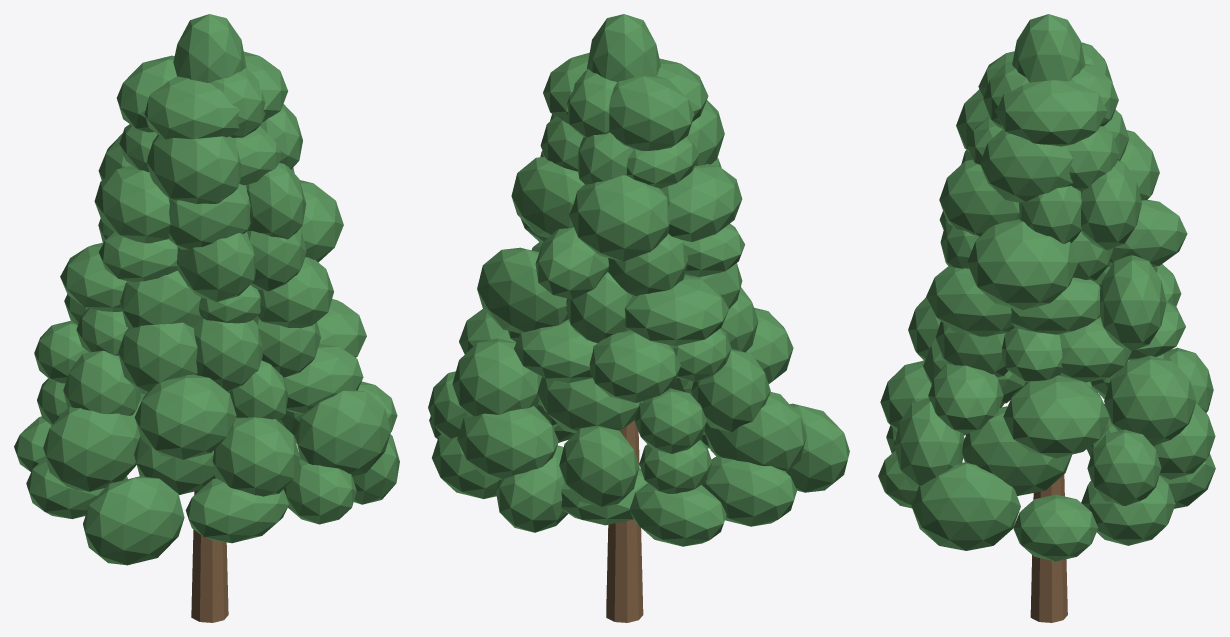
The model's file is tree_conifer.glb.
3 views of the same model, side by side, from view 1: azimuth 30°, elevation 25°; view 2: azimuth 150°, elevation 25°; view 3: azimuth 270°, elevation 25° (orthographic).
Visible parts, largest first — view 1: foliage, trunk; view 2: foliage, trunk; view 3: foliage, trunk.
Boxes of the visible parts, x1=… form: foliage: x1=14, y1=14, x2=399, y2=565; trunk: x1=191, y1=490, x2=228, y2=622; foliage: x1=428, y1=14, x2=849, y2=546; trunk: x1=606, y1=420, x2=643, y2=622; foliage: x1=878, y1=14, x2=1215, y2=561; trunk: x1=1030, y1=474, x2=1067, y2=622.
Size of the model in its own units: 6.08 by 9.7 by 4.94.
